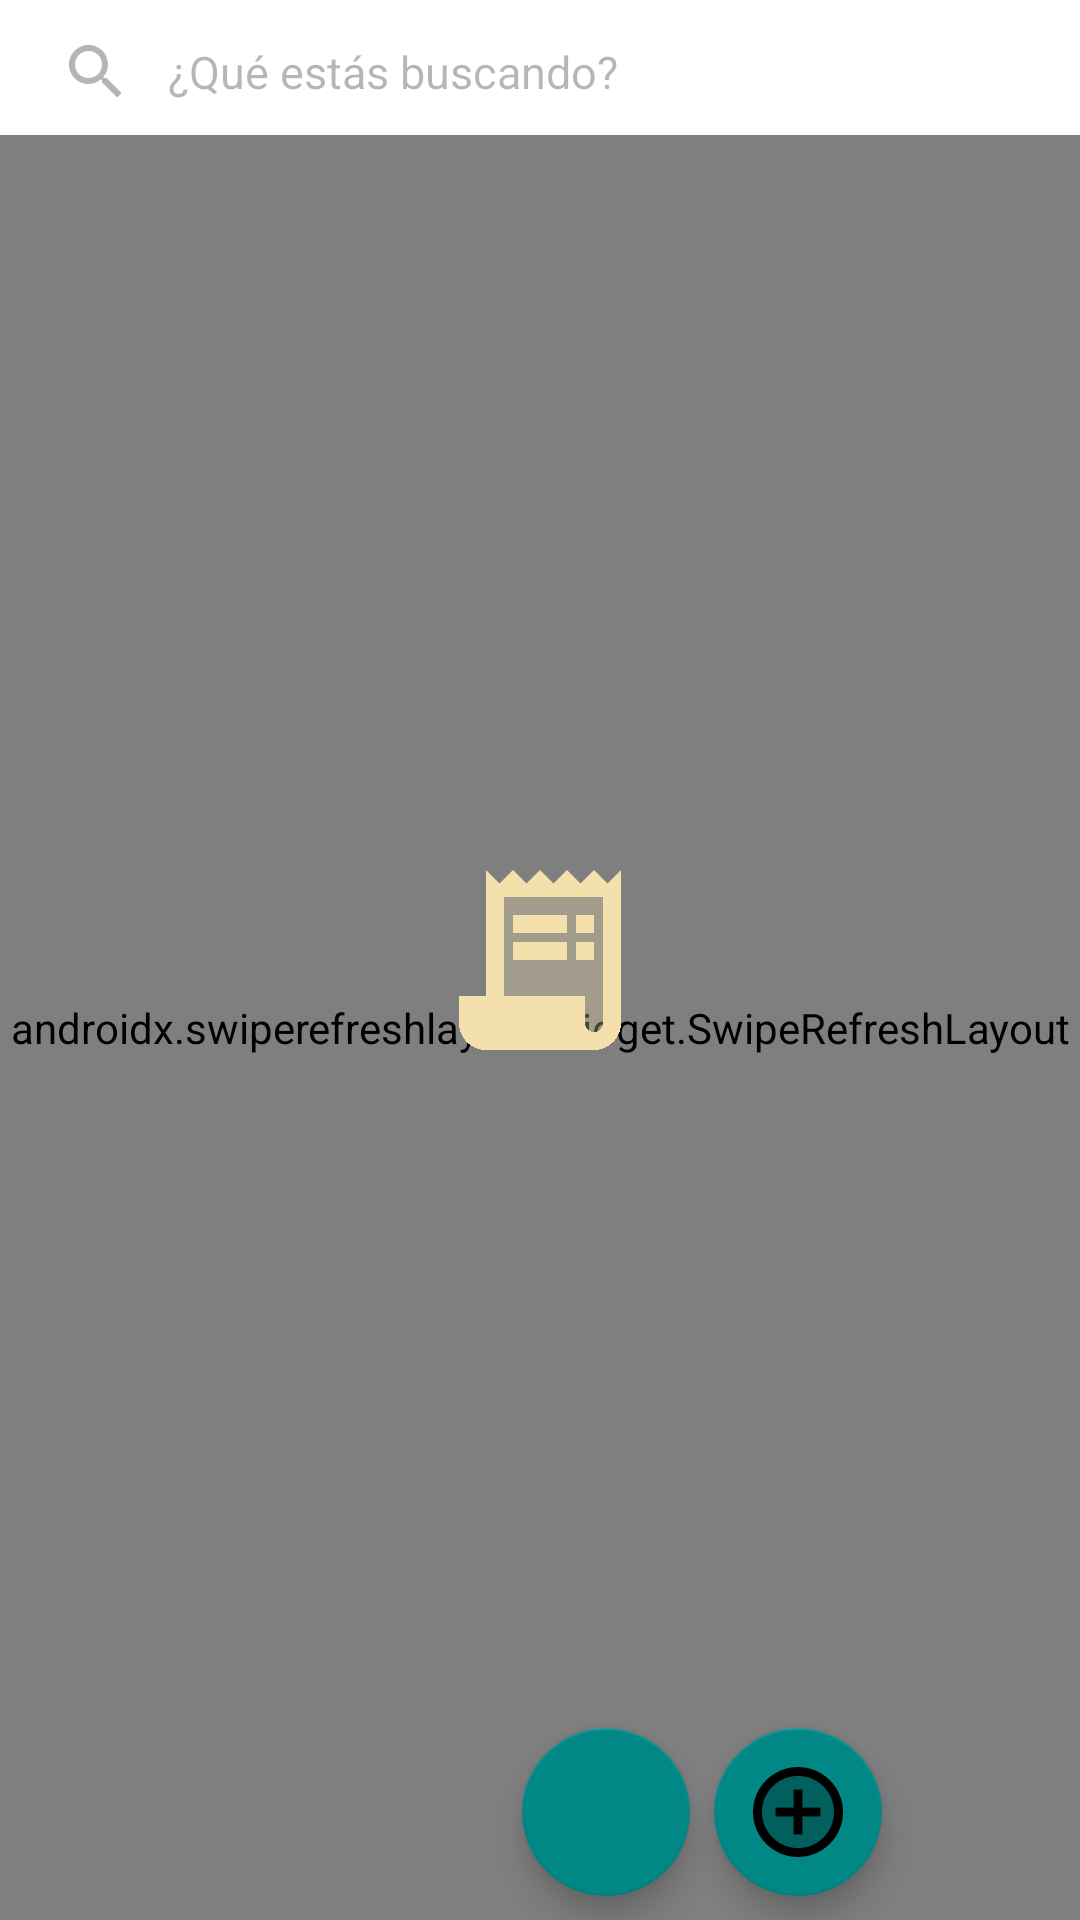

Named icons in this screenshot (1080px×1920px) and their bounding boxes, (x1, y1, x2, y2):
Añadir producto: (714, 1728, 882, 1896)
